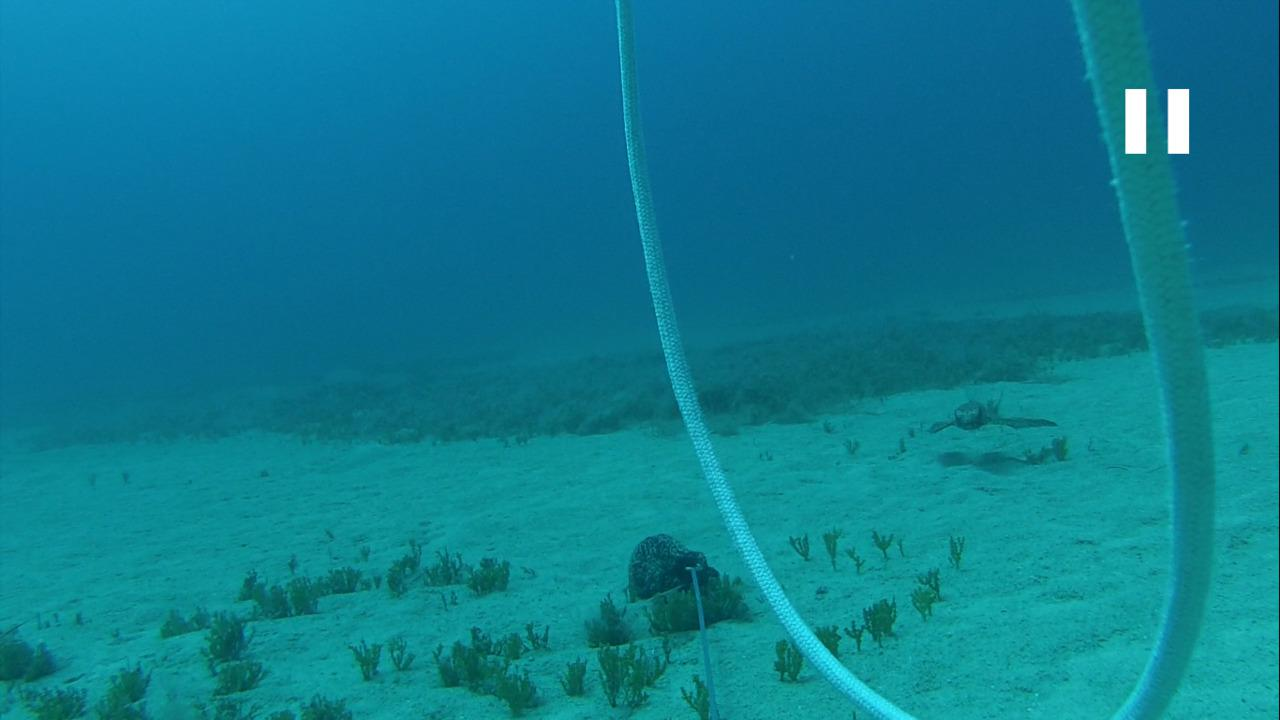dactylopterus: (909, 385, 1053, 439)
